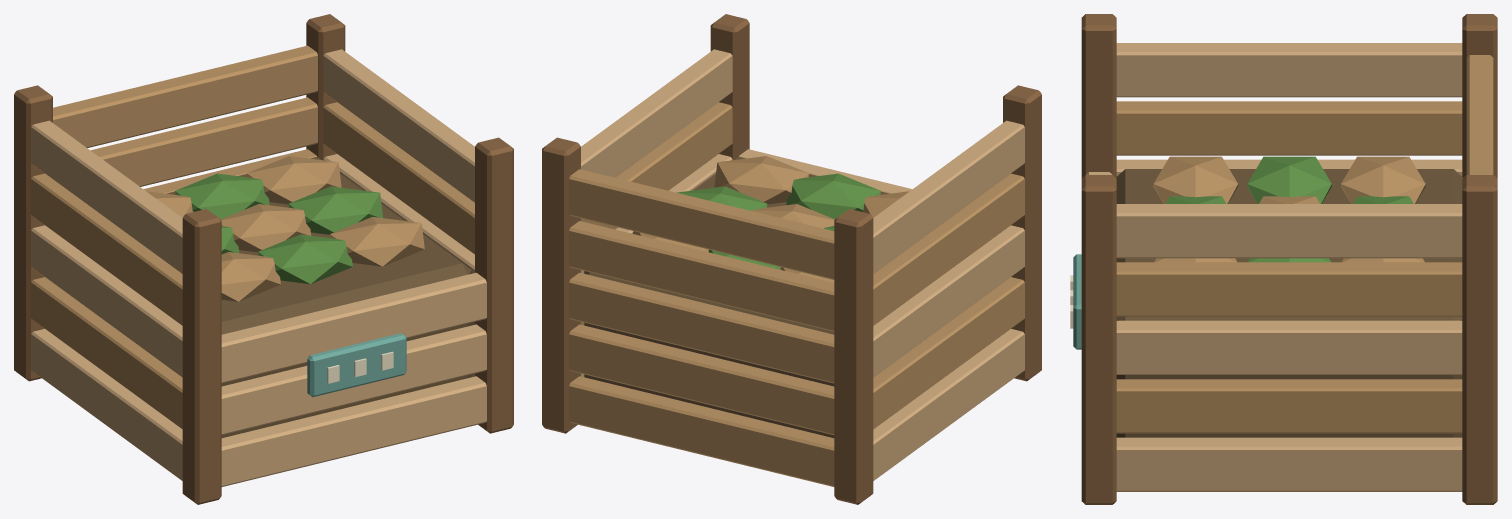
Rendered from farm_art_compost.glb.
3 views of the same model, side by side, from view 1: azimuth 30°, elevation 25°; view 2: azimuth 150°, elevation 25°; view 3: azimuth 270°, elevation 25° (orthographic). The views are drawn at different scales.
Visible parts, largest first — view 1: Removable front slat, Compost rear slat.004, Removable front slat.002, Compost corner post, Compost dark fill, Compost rear slat.003, Removable front slat.001, Compost corner post.002, Compost side slat.008, Compost side slat.009, Compost side slat.002, Compost side slat.004 (+16 smaller); view 2: Compost rear slat.002, Compost rear slat.003, Compost rear slat.004, Compost rear slat, Compost rear slat.001, Compost corner post.001, Compost corner post.003, Compost side slat.008, Compost side slat.009, Compost side slat.002, Compost side slat.004, Compost side slat.006 (+12 smaller); view 3: Compost side slat.003, Compost side slat.006, Compost side slat.007, Compost side slat.001, Compost side slat.005, Compost side slat.008, Compost side slat.009, Compost corner post.002, Compost corner post.003, Compost dark fill, Compost corner post, Compost rear slat.004 (+6 smaller).
Part boxes in pixels (x1=…): Removable front slat: x1=221, y1=376, x2=486, y2=486; Compost rear slat.004: x1=53, y1=45, x2=317, y2=147; Removable front slat.002: x1=221, y1=272, x2=486, y2=383; Compost corner post: x1=182, y1=209, x2=221, y2=504; Compost dark fill: x1=167, y1=157, x2=471, y2=437; Compost rear slat.003: x1=90, y1=97, x2=317, y2=186; Removable front slat.001: x1=221, y1=324, x2=486, y2=435; Compost corner post.002: x1=475, y1=137, x2=513, y2=433; Compost side slat.008: x1=31, y1=120, x2=182, y2=273; Compost side slat.009: x1=323, y1=49, x2=474, y2=202; Compost side slat.002: x1=31, y1=277, x2=182, y2=429; Compost side slat.004: x1=31, y1=225, x2=182, y2=377; Compost rear slat.002: x1=569, y1=272, x2=834, y2=383; Compost rear slat.003: x1=569, y1=221, x2=834, y2=331; Compost rear slat.004: x1=569, y1=169, x2=834, y2=279; Compost rear slat: x1=569, y1=376, x2=834, y2=486; Compost rear slat.001: x1=569, y1=324, x2=834, y2=435; Compost corner post.001: x1=834, y1=209, x2=873, y2=504; Compost corner post.003: x1=542, y1=137, x2=580, y2=433; Compost side slat.008: x1=873, y1=120, x2=1024, y2=273; Compost side slat.009: x1=581, y1=49, x2=732, y2=177; Compost side slat.002: x1=873, y1=277, x2=1024, y2=429; Compost side slat.004: x1=873, y1=225, x2=1024, y2=377; Compost side slat.006: x1=873, y1=173, x2=1024, y2=325; Compost side slat.003: x1=1116, y1=379, x2=1462, y2=433; Compost side slat.006: x1=1116, y1=101, x2=1462, y2=155; Compost side slat.007: x1=1116, y1=262, x2=1462, y2=316; Compost side slat.001: x1=1116, y1=437, x2=1462, y2=491; Compost side slat.005: x1=1116, y1=320, x2=1462, y2=374; Compost side slat.008: x1=1116, y1=43, x2=1462, y2=97; Compost side slat.009: x1=1116, y1=204, x2=1462, y2=258; Compost corner post.002: x1=1081, y1=175, x2=1116, y2=504; Compost corner post.003: x1=1462, y1=175, x2=1497, y2=504; Compost dark fill: x1=1116, y1=169, x2=1462, y2=437; Compost corner post: x1=1081, y1=14, x2=1116, y2=177; Compost rear slat.004: x1=1466, y1=55, x2=1493, y2=174.
Bounding box in the file's own units: 1.42 × 1.2 × 1.46.
